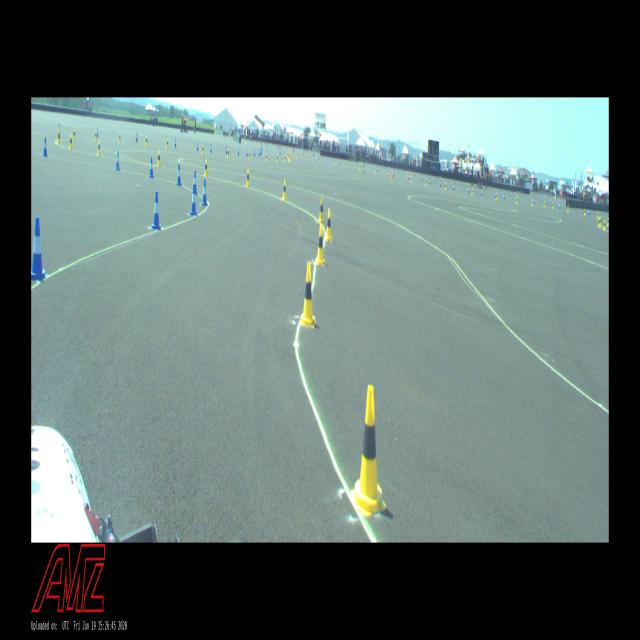blue_cone: (31, 217, 48, 280), (152, 192, 162, 230), (189, 186, 197, 216), (200, 179, 208, 206), (176, 163, 182, 186), (192, 171, 198, 194), (42, 137, 48, 157), (149, 157, 154, 178), (116, 150, 120, 170), (58, 122, 61, 136), (174, 138, 177, 147), (253, 148, 256, 157), (225, 146, 228, 154), (467, 186, 470, 194), (97, 127, 99, 138), (197, 141, 199, 152), (210, 143, 212, 153), (136, 133, 138, 142), (238, 147, 240, 156), (246, 147, 248, 156), (439, 179, 441, 188), (588, 208, 590, 216), (260, 148, 262, 156), (452, 183, 454, 190), (480, 189, 482, 196), (503, 193, 505, 200), (258, 149, 260, 156), (494, 191, 496, 198), (558, 202, 560, 209), (266, 147, 268, 154), (376, 166, 378, 173), (261, 148, 262, 156), (429, 178, 430, 185), (534, 197, 535, 204), (409, 173, 410, 180), (339, 160, 340, 165), (318, 156, 318, 161)
large_orange_cone: (392, 166, 394, 178), (410, 170, 412, 182), (407, 169, 409, 180), (389, 166, 390, 177)
yellow_cone: (351, 385, 386, 517), (300, 263, 317, 327), (315, 224, 326, 265), (325, 208, 333, 240), (318, 197, 324, 223), (282, 180, 287, 200), (246, 168, 250, 187), (204, 159, 208, 177), (157, 150, 161, 166), (97, 140, 101, 156), (69, 134, 73, 149), (72, 128, 76, 141), (58, 128, 61, 144), (118, 132, 122, 143), (603, 219, 606, 231), (94, 130, 97, 142), (248, 151, 251, 161), (145, 136, 148, 146), (166, 139, 169, 149), (515, 196, 518, 205), (598, 217, 600, 228), (202, 145, 204, 155), (607, 217, 609, 226), (266, 153, 268, 162), (444, 182, 446, 191), (567, 204, 569, 213), (228, 149, 230, 158), (284, 154, 286, 163), (276, 154, 278, 163), (290, 154, 292, 163), (289, 152, 291, 161), (600, 217, 602, 226), (543, 200, 545, 208), (471, 188, 473, 196), (584, 208, 586, 216), (531, 199, 533, 207), (410, 175, 412, 183), (425, 179, 427, 186), (552, 202, 554, 209), (297, 152, 299, 159), (306, 153, 308, 160), (333, 158, 335, 165), (359, 164, 361, 171), (375, 167, 377, 174), (597, 212, 599, 218), (287, 152, 289, 158), (291, 152, 293, 158), (319, 157, 321, 162), (391, 170, 392, 178), (496, 193, 497, 200), (345, 161, 346, 168)
